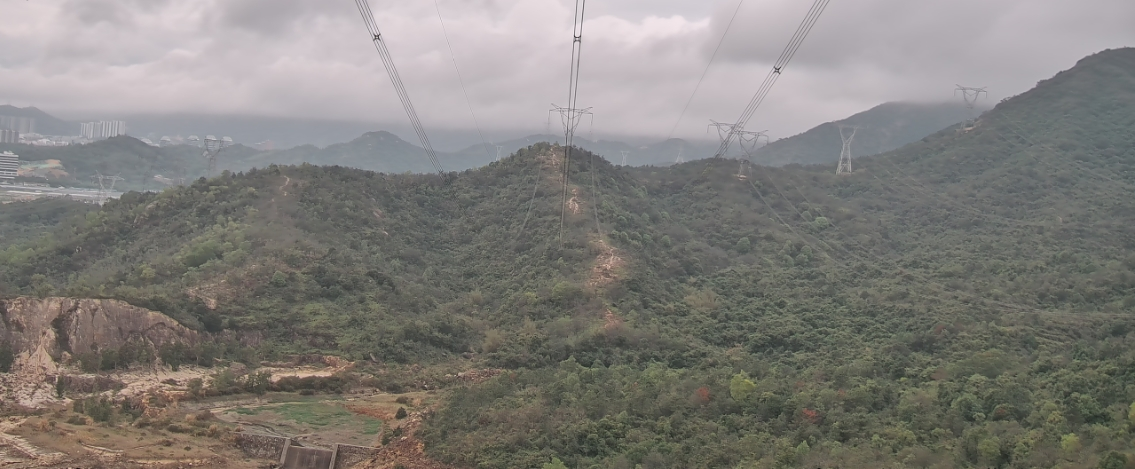山间云雾: (0, 0, 1135, 208)
